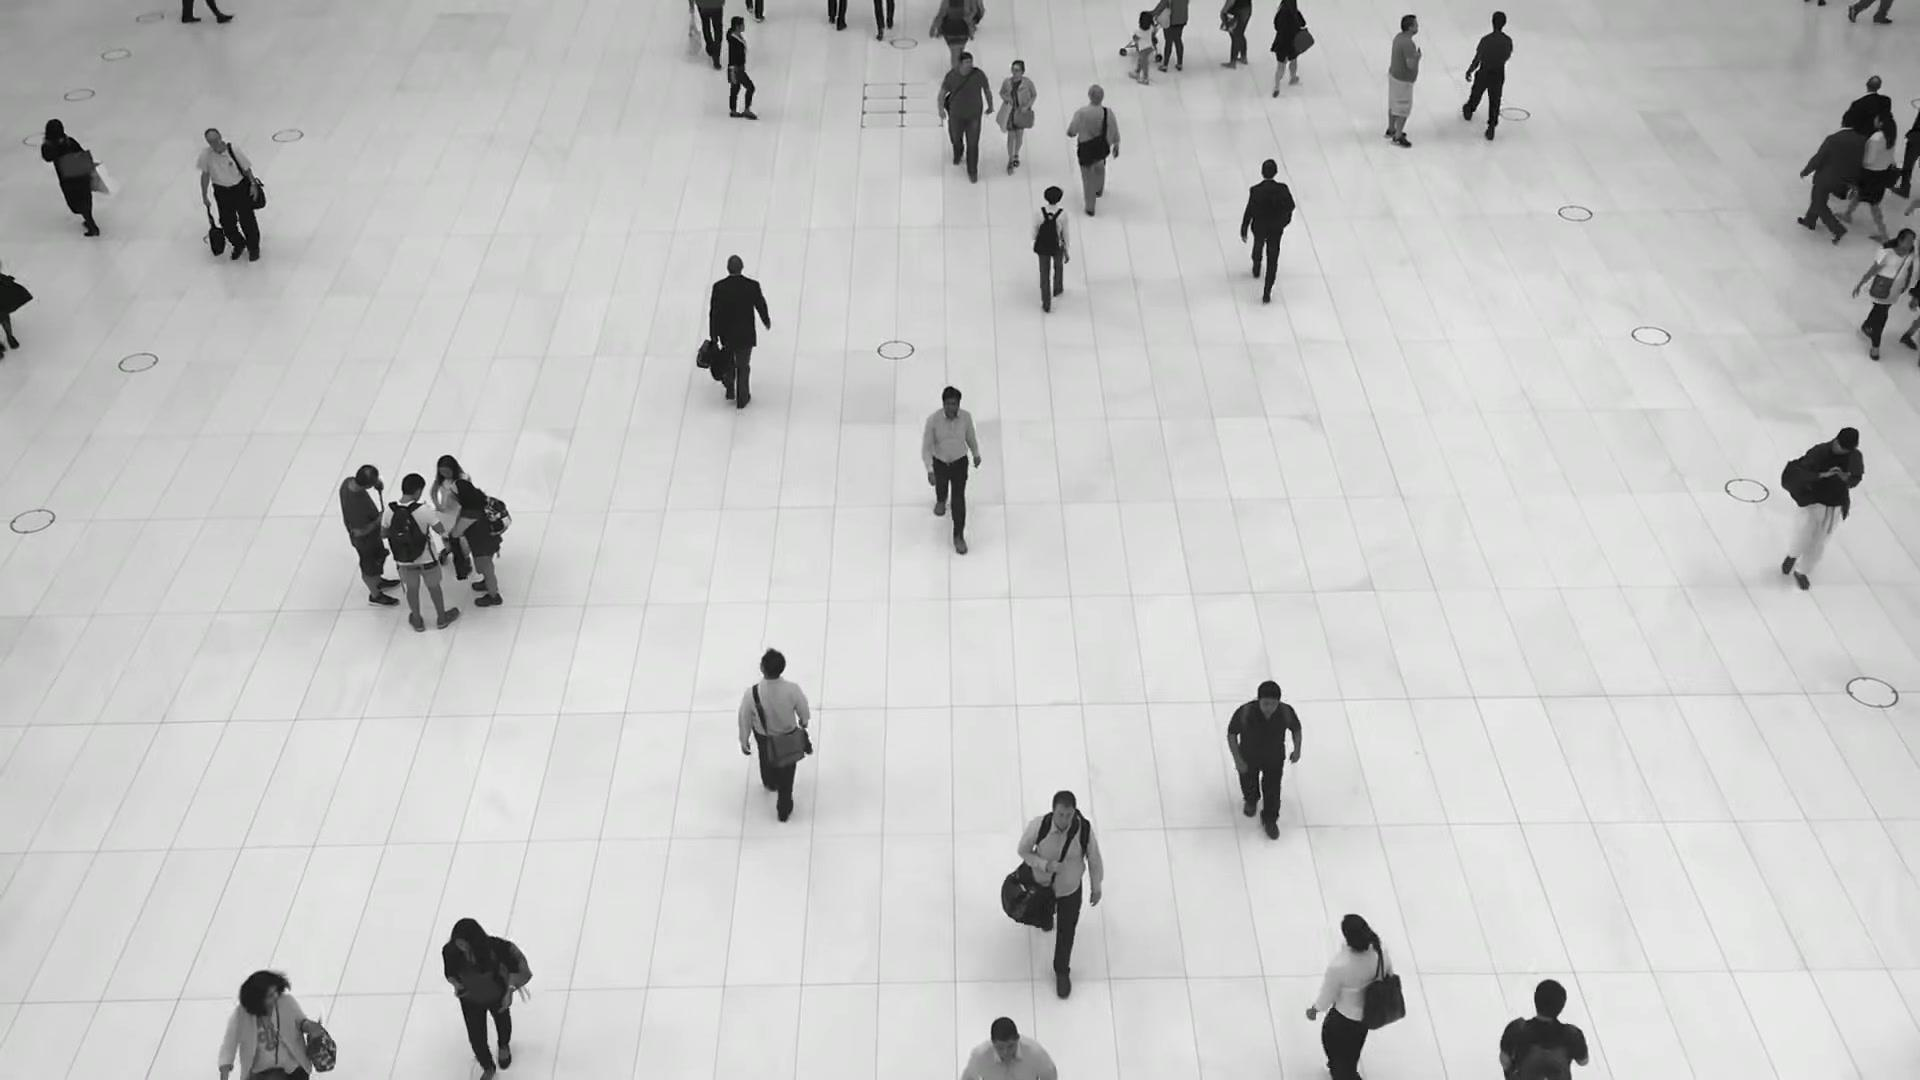person: (1015, 790, 1103, 1010), (1287, 914, 1391, 1080), (1781, 430, 1863, 601), (378, 476, 459, 636), (736, 647, 811, 815), (439, 919, 517, 1072), (1225, 682, 1303, 829), (219, 971, 318, 1080), (919, 387, 983, 557), (1786, 113, 1865, 246), (708, 255, 770, 411), (195, 130, 261, 269), (1497, 981, 1589, 1080), (336, 465, 400, 609), (1831, 110, 1896, 241), (1853, 227, 1916, 361), (1241, 159, 1297, 302), (934, 52, 991, 186), (1066, 83, 1122, 214), (39, 118, 100, 238), (449, 482, 501, 611), (1462, 9, 1512, 139), (1029, 184, 1073, 310), (427, 458, 468, 580), (1384, 14, 1421, 148), (996, 61, 1036, 174), (1267, 0, 1306, 97), (724, 15, 756, 121), (1133, 11, 1153, 86)
